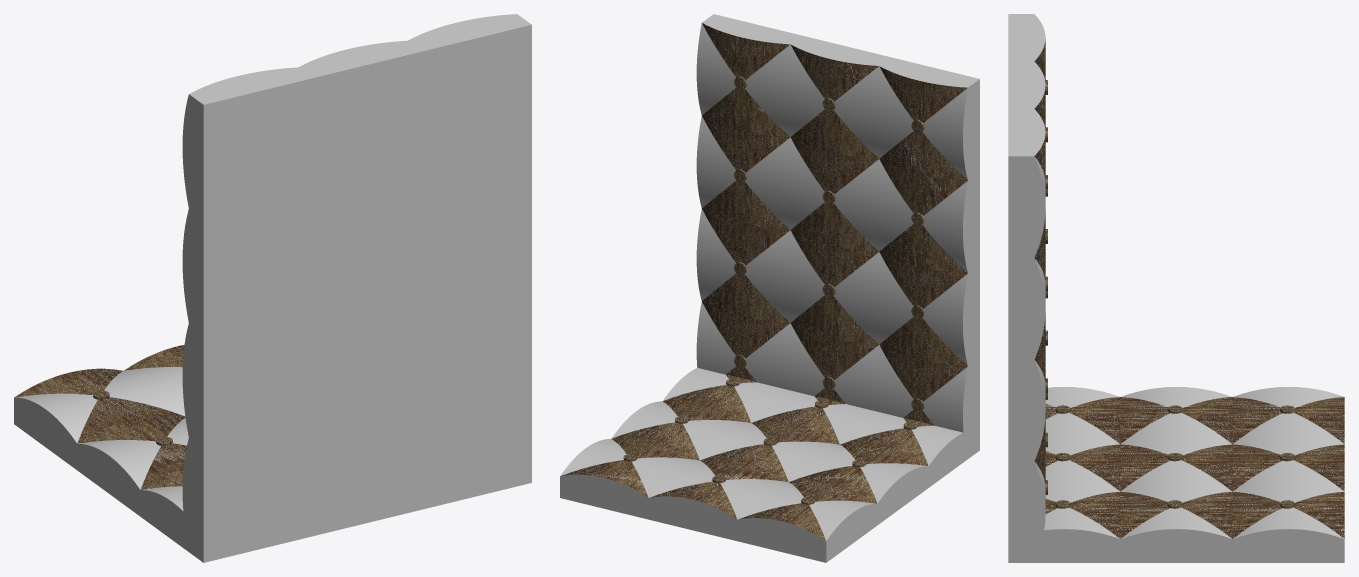
3 renders of one model, left to right at view 1: azimuth 30°, elevation 25°; view 2: azimuth 150°, elevation 25°; view 3: azimuth 270°, elevation 25°, orthographic. The views are drawn at different scales.
Visible parts, largest first — view 1: mesh8_mesh8-geometry; view 2: mesh8_mesh8-geometry, mesh1_mesh1-geometry; view 3: mesh8_mesh8-geometry.
Boxes of the visible parts, x1,y1,x2,y2 form: mesh8_mesh8-geometry: (14,14,531,562); mesh8_mesh8-geometry: (560,14,979,562); mesh1_mesh1-geometry: (734,169,924,411); mesh8_mesh8-geometry: (1008,14,1344,562).
Size of the model in its own units: 0.5145 by 0.686 by 0.5145.
